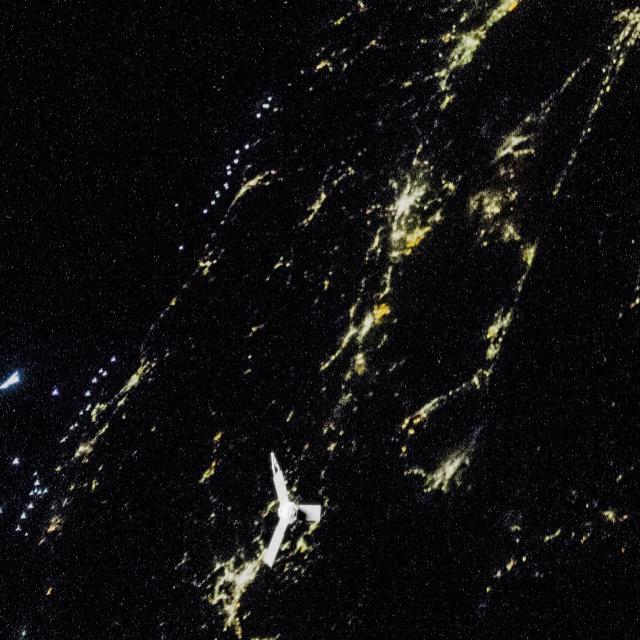satellite: (249, 442, 329, 582)
